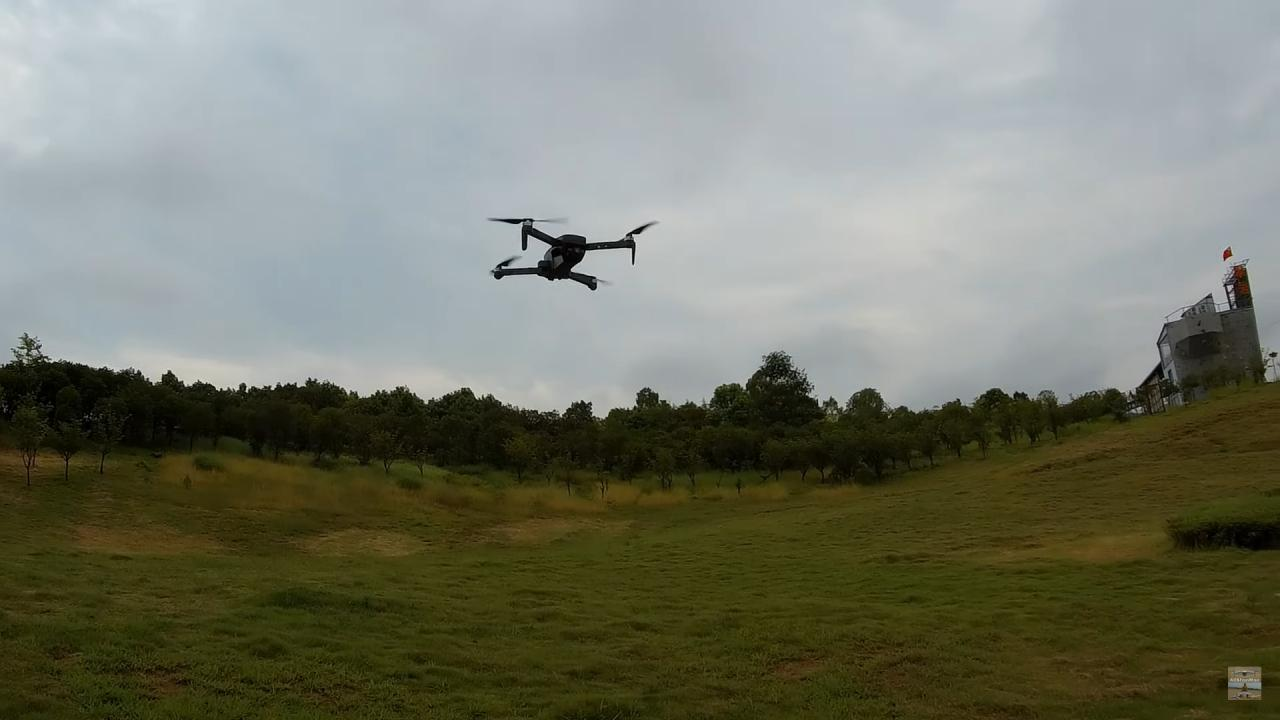Drone: (472, 201, 668, 305)
